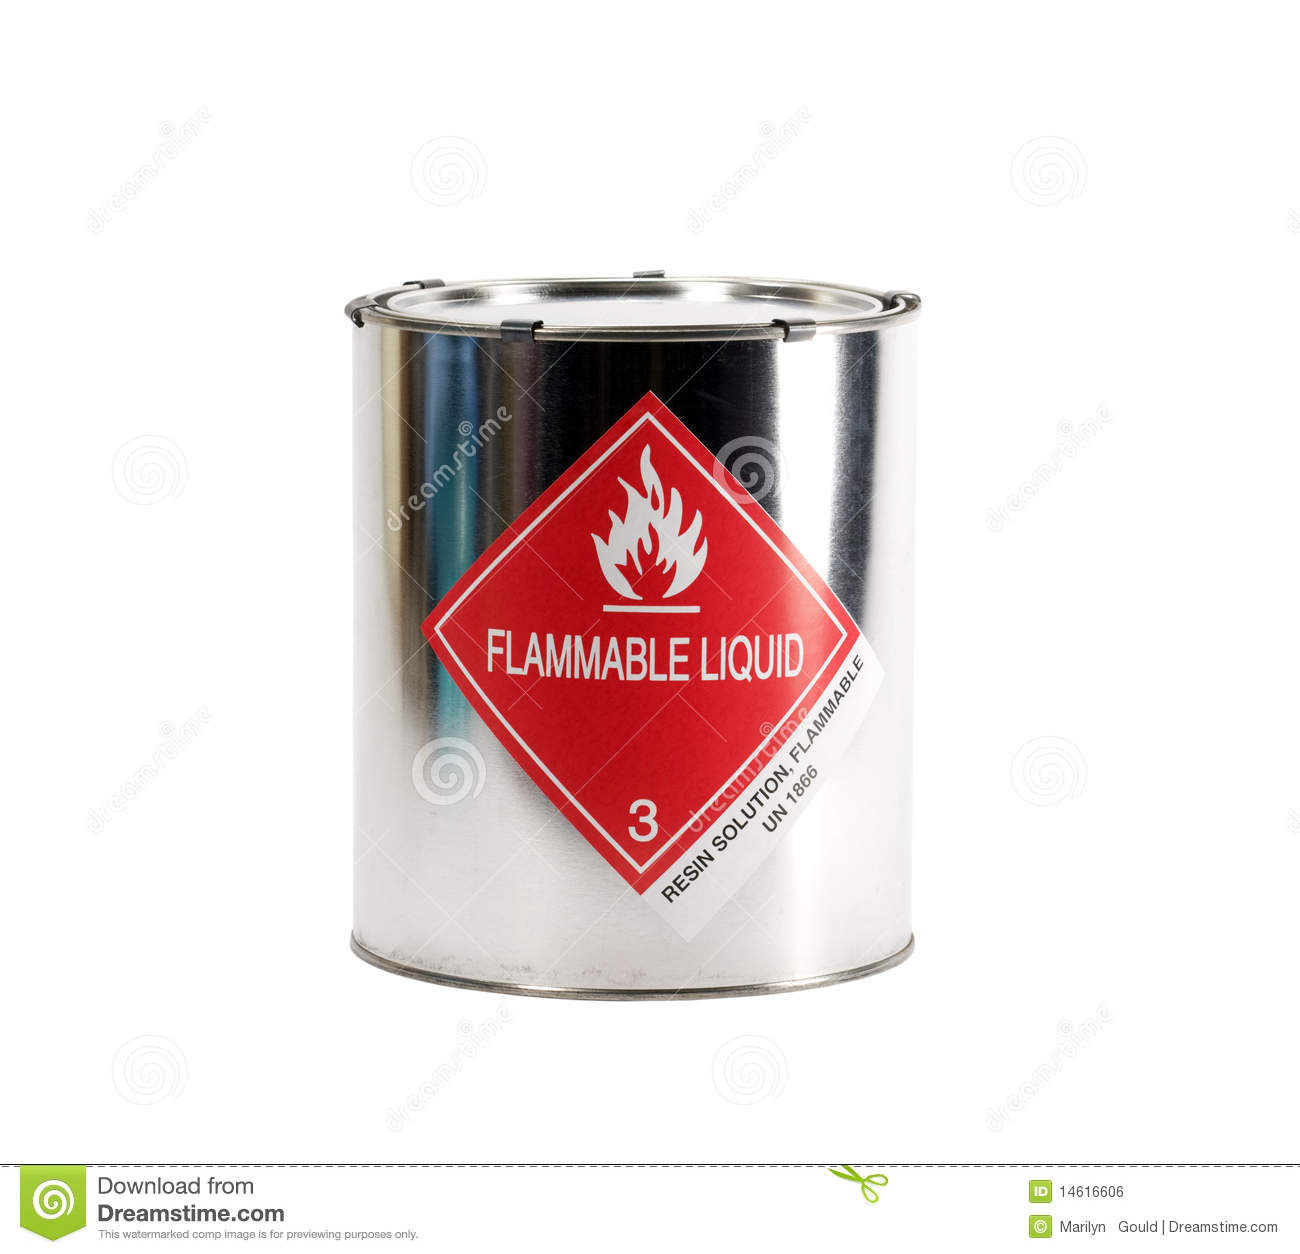FlammableLiquid: (431, 410, 862, 877)
